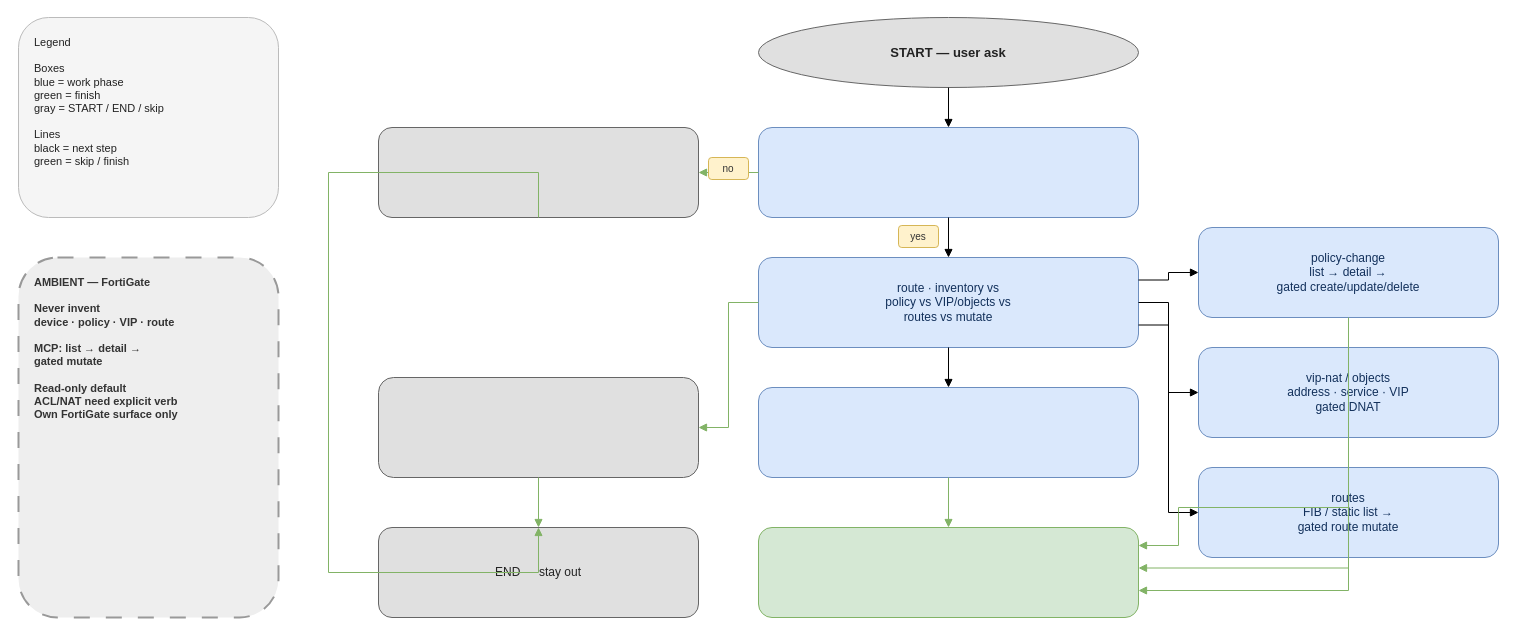
Image size: 1516x636. Some labels were removed from this diagram. Each missing label, with the centre of its shape:
"END — evidence device / id / change" belongs at [948,572].
"gate · FortiGate? device / policy / VIP / route named?" belongs at [948,172].
"inventory list devices → status / VDOM / interfaces" belongs at [948,432].
"refuse mutate unless explicit verb (fortigate-safety)" belongs at [538,427].
"skip — no FortiGate surface this turn" belongs at [538,172].
